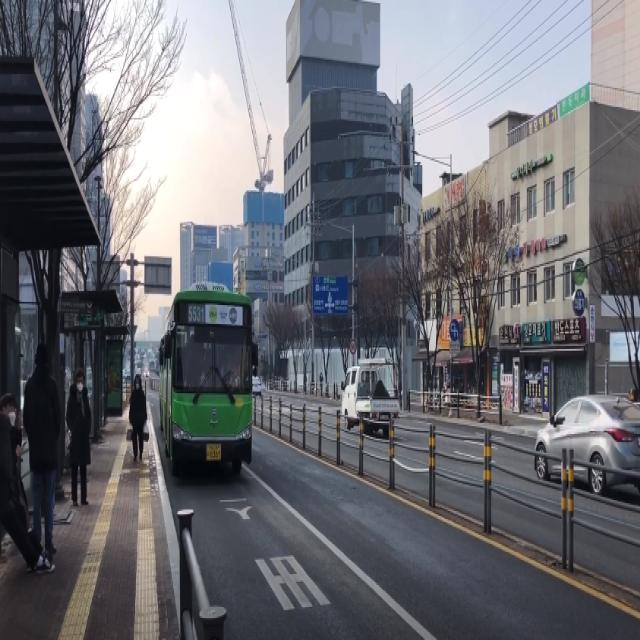bus-number: (188, 305, 204, 323)
